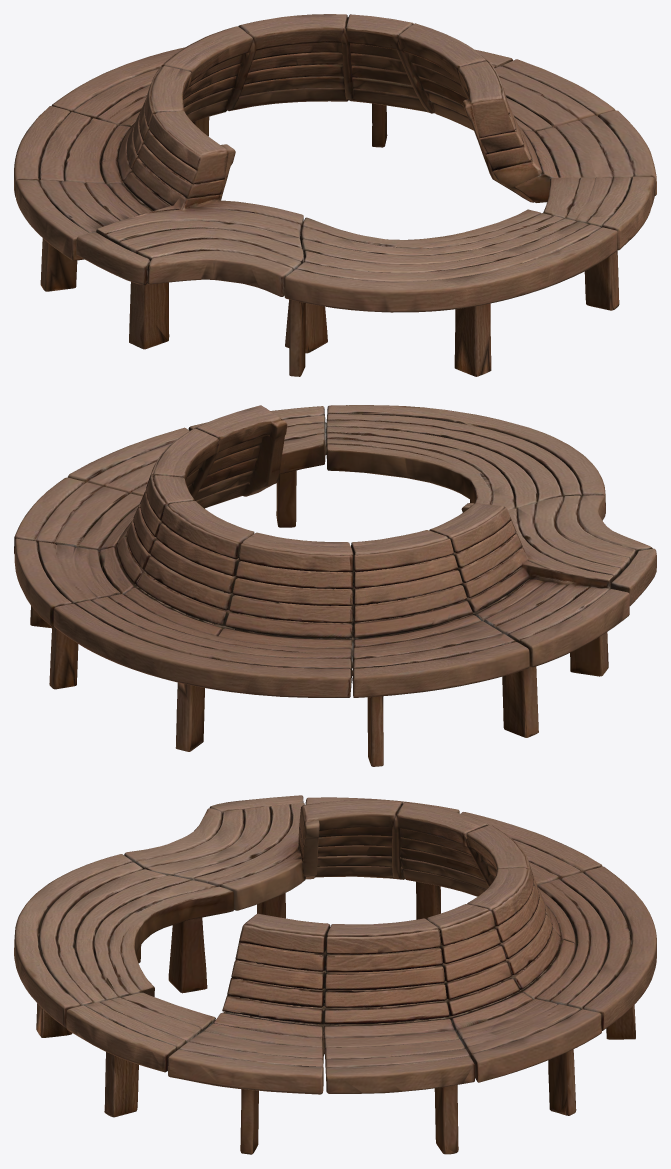
Rendered from treebench.glb.
The picture shows the model from 3 angles, top to bottom: view 1: azimuth 30°, elevation 25°; view 2: azimuth 150°, elevation 25°; view 3: azimuth 270°, elevation 25°; orthographic projection.
Parts seen in each view (by area): view 1: tripo_node_6f01738a-4bdf-4865-9e24-fbcca63d4fdb; view 2: tripo_node_6f01738a-4bdf-4865-9e24-fbcca63d4fdb; view 3: tripo_node_6f01738a-4bdf-4865-9e24-fbcca63d4fdb.
Boxes of the visible parts, box(x1,y1,x2,y2) form: tripo_node_6f01738a-4bdf-4865-9e24-fbcca63d4fdb: box(14, 14, 656, 376); tripo_node_6f01738a-4bdf-4865-9e24-fbcca63d4fdb: box(14, 405, 656, 766); tripo_node_6f01738a-4bdf-4865-9e24-fbcca63d4fdb: box(14, 795, 656, 1154).
Size of the model in its own units: 1.67 by 0.5 by 1.69.
1 material, 1 textured.
